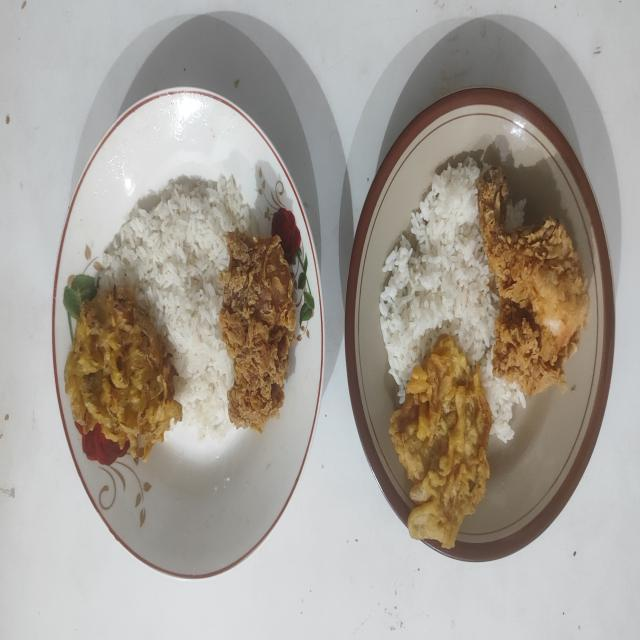nasi_putih: (378, 159, 526, 441), (100, 175, 254, 438)
